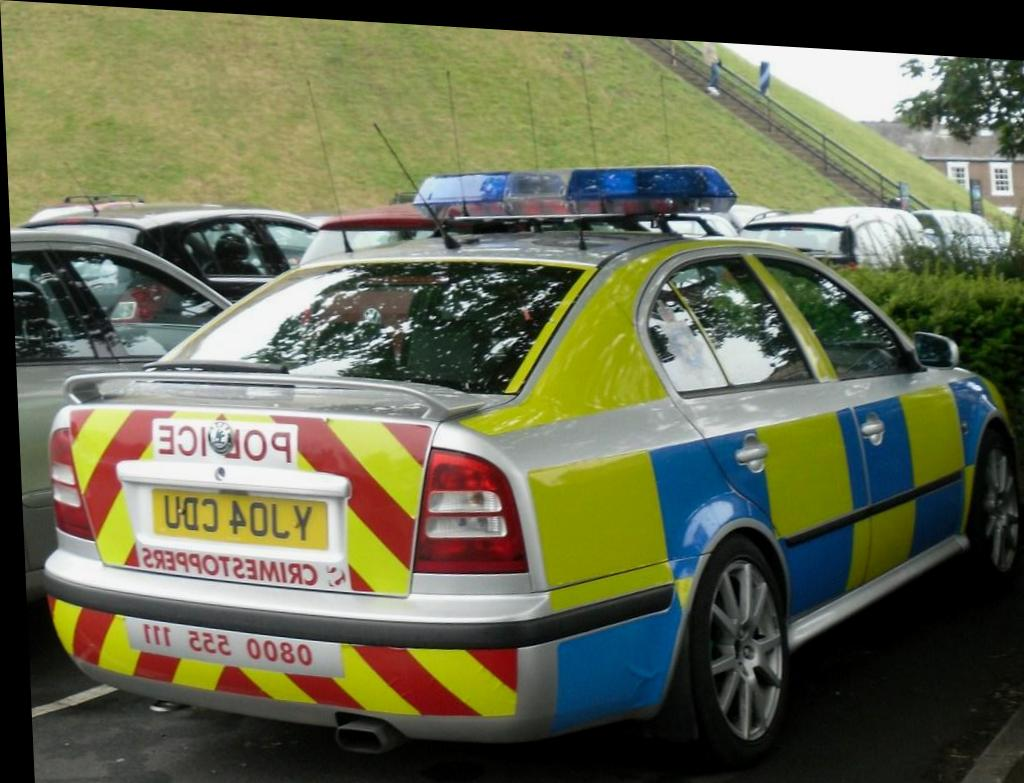License_Plate: (152, 489, 332, 552)
